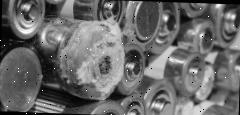electronic: (156, 42, 213, 101)
